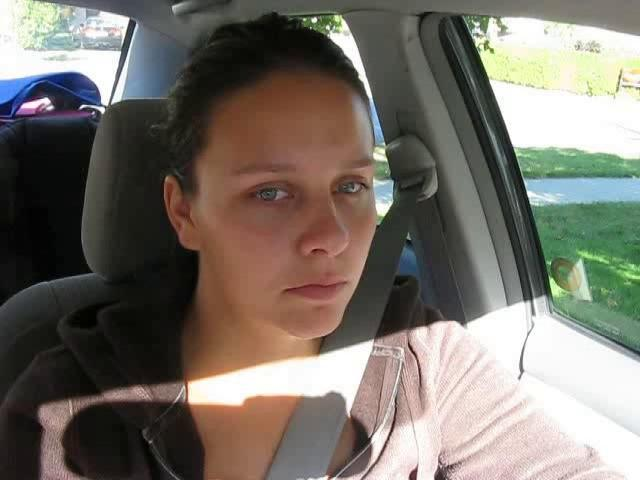eye_open: (241, 178, 299, 212), (330, 172, 374, 202)
face: (207, 142, 382, 342)
